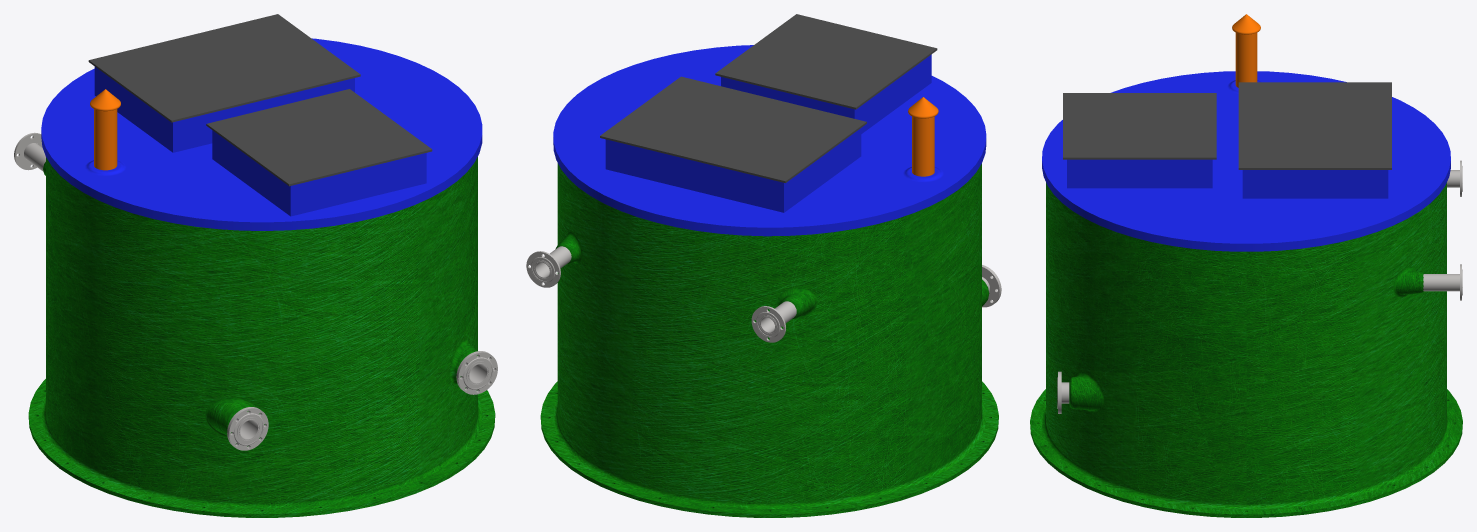
Rendered from SPT100-80.glb.
3 views of the same model, side by side, from view 1: azimuth 30°, elevation 25°; view 2: azimuth 150°, elevation 25°; view 3: azimuth 270°, elevation 25° (orthographic). The views are drawn at different scales.
Parts seen in each view (by area): view 1: Твердое тело1 (×3), Solid1 (×3), Твердое тело2; view 2: Твердое тело1 (×3), Solid1 (×2), Твердое тело2; view 3: Твердое тело1 (×3), Твердое тело2, Solid1.
Part boxes in pixels (box(x1,y1,x2,y2)): Твердое тело1 (×3): box(28, 14, 495, 517); Solid1 (×3): box(14, 132, 497, 450); Твердое тело2: box(94, 109, 117, 170); Твердое тело1 (×3): box(540, 14, 998, 517); Solid1 (×2): box(526, 251, 785, 342); Твердое тело2: box(912, 116, 934, 176); Твердое тело1 (×3): box(1030, 71, 1462, 517); Твердое тело2: box(1235, 33, 1257, 87); Solid1: box(1423, 274, 1459, 291).
Size of the model in its own units: 2.2 by 1.92 by 2.2.
11 materials, 1 textured.
